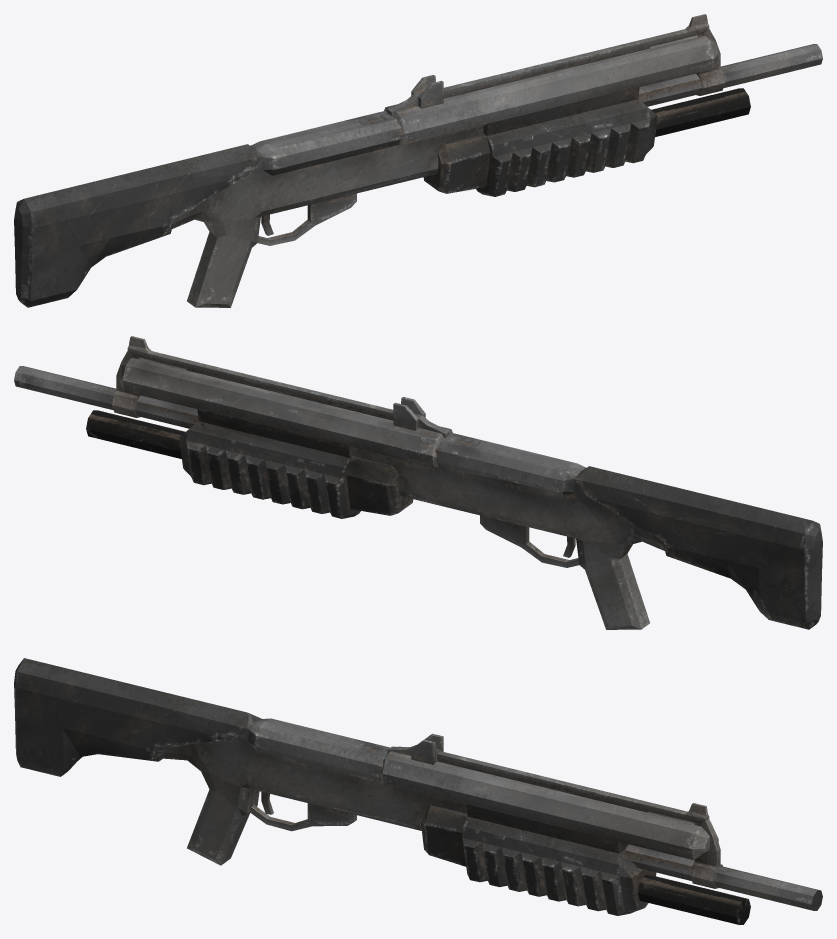
The model's file is shotgun.obj.
3 renders of one model, top to bottom at view 1: azimuth 30°, elevation 25°; view 2: azimuth 150°, elevation 25°; view 3: azimuth 330°, elevation 25°, orthographic.
Visible parts, largest first — view 1: pCylinder4_0; view 2: pCylinder4_0; view 3: pCylinder4_0.
Boxes of the visible parts, left/top/right/bottom form: pCylinder4_0: left=14, top=14, right=822, bottom=307; pCylinder4_0: left=14, top=336, right=822, bottom=629; pCylinder4_0: left=14, top=658, right=822, bottom=924.
Size of the model in its own units: 39.89 by 8.3 by 3.21.
